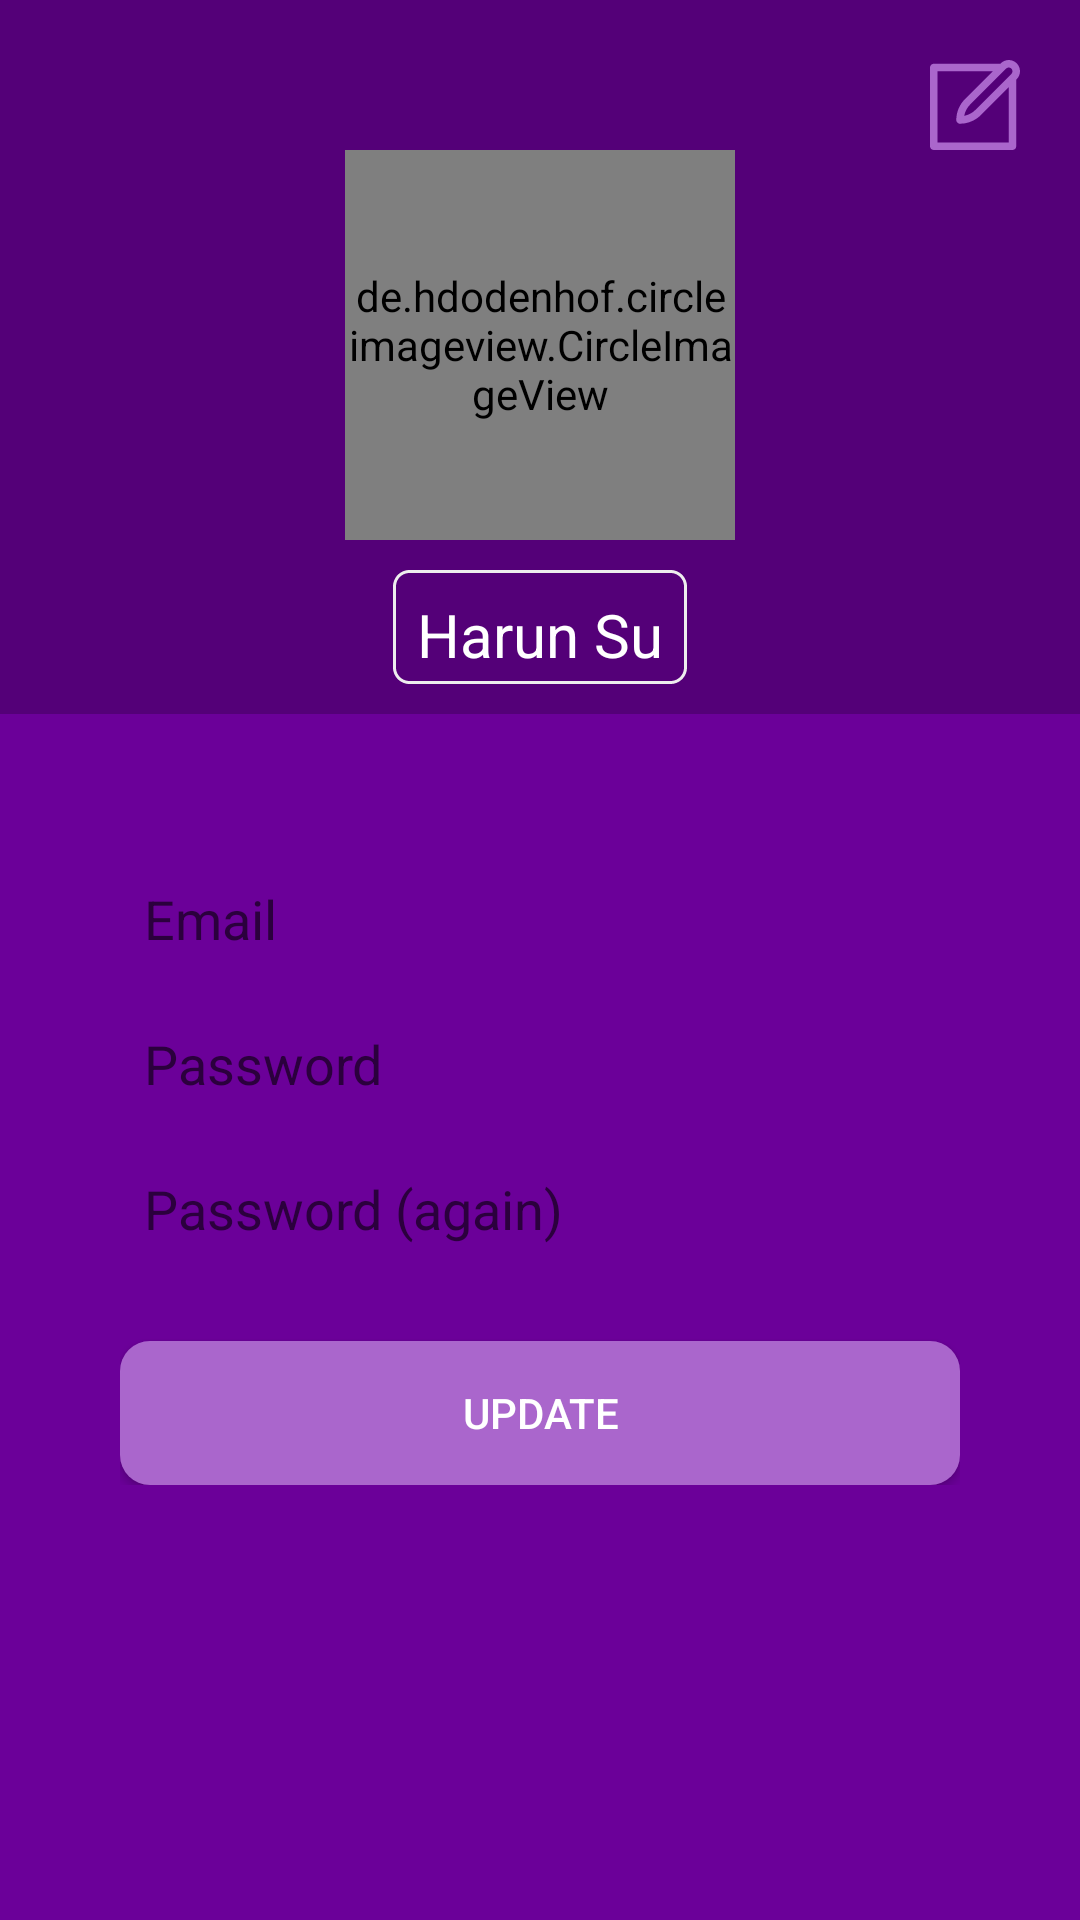

Icons on this 1080w x 1920h Android screen, each with its box as (x1, y1, x2, y2):
edit: (930, 60, 1020, 150)
